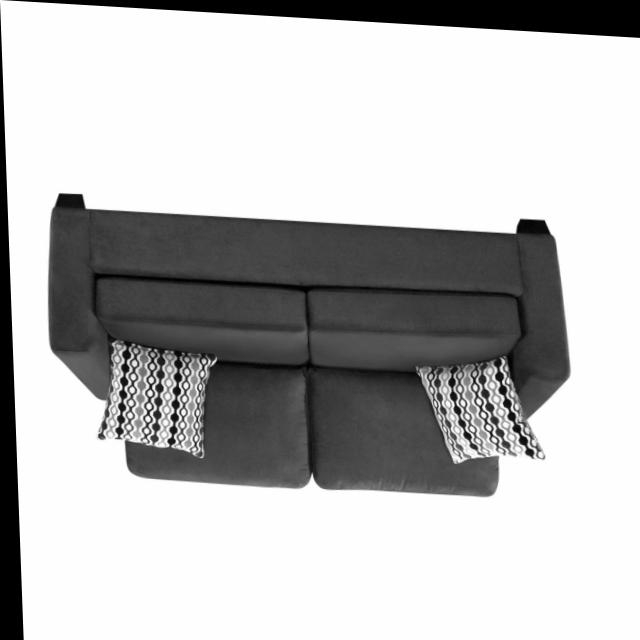Sofa: (40, 193, 575, 499)
